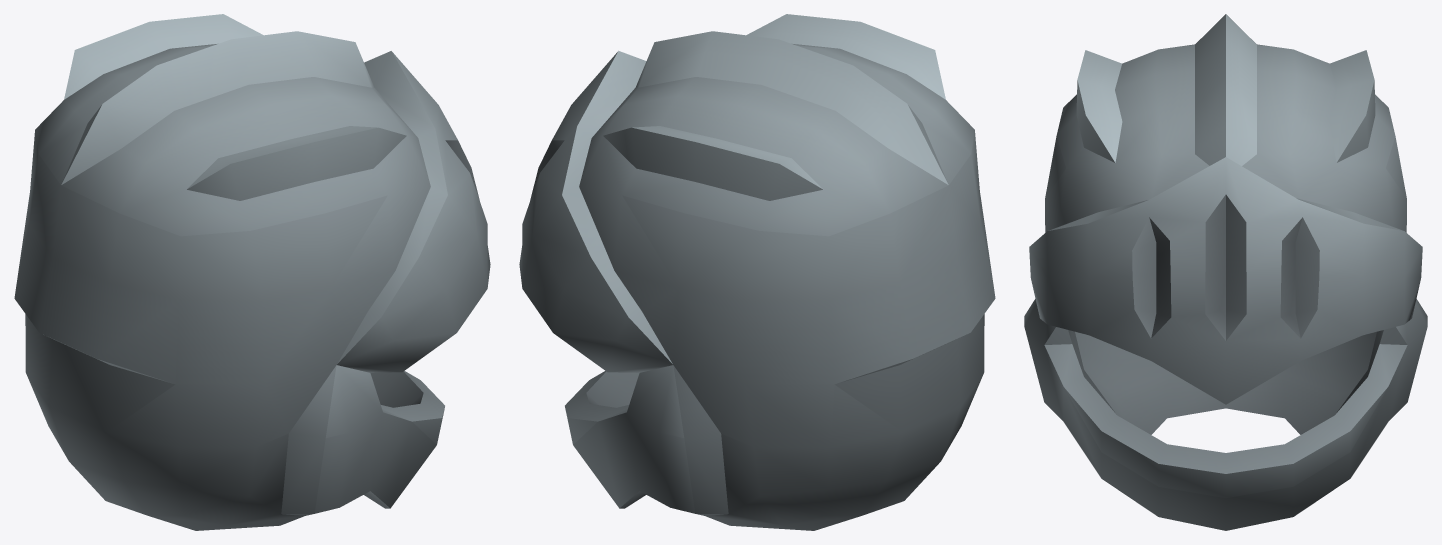
File: helm_01.glb
3 renders of one model, left to right at view 1: azimuth 30°, elevation 25°; view 2: azimuth 150°, elevation 25°; view 3: azimuth 270°, elevation 25°, orthographic. The views are drawn at different scales.
Visible parts, largest first — view 1: Knight_Helmet; view 2: Knight_Helmet; view 3: Knight_Helmet.
Boxes of the visible parts, x1,y1,x2,y2 form: Knight_Helmet: [14, 14, 490, 530]; Knight_Helmet: [519, 14, 995, 530]; Knight_Helmet: [1024, 14, 1427, 530].
Bounding box in the file's own units: 1.25 × 1.36 × 1.14.
1 material, 1 textured.
